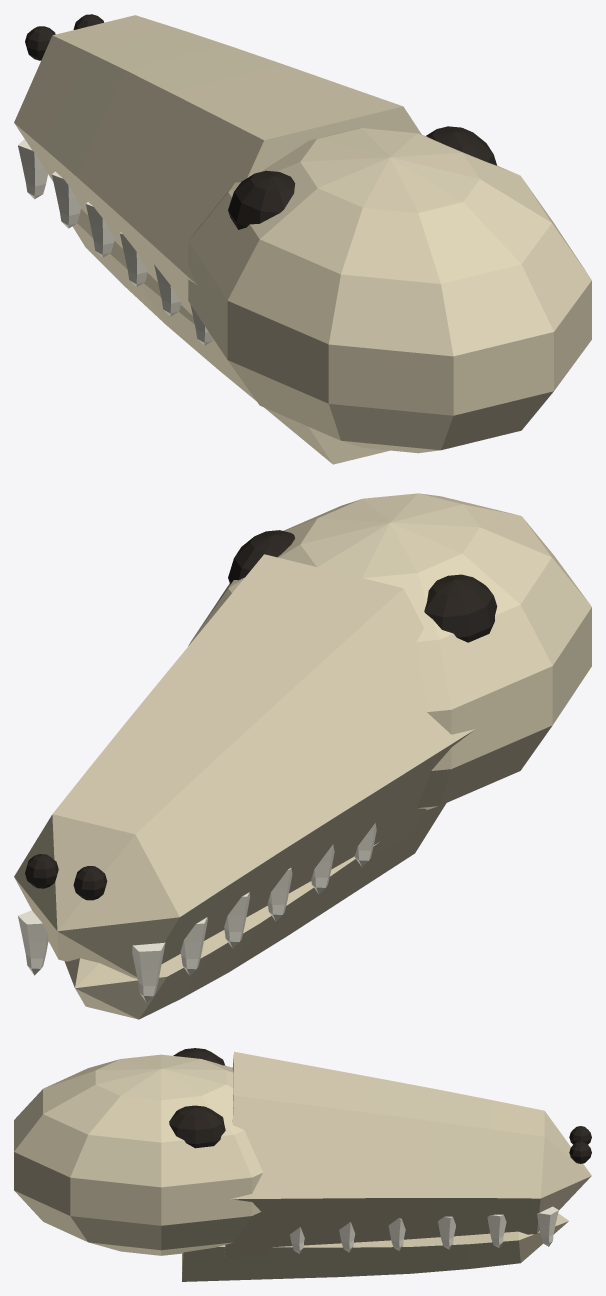
The model's file is GatorSkull.glb.
3 renders of one model, top to bottom at view 1: azimuth 30°, elevation 25°; view 2: azimuth 150°, elevation 25°; view 3: azimuth 270°, elevation 25°, orthographic. The views are drawn at different scales.
Visible parts, largest first — view 1: GatorSkull; view 2: GatorSkull; view 3: GatorSkull.
Part boxes in pixels (left/top/right/bottom): GatorSkull: left=14, top=14, right=591, bottom=464; GatorSkull: left=14, top=493, right=591, bottom=1019; GatorSkull: left=14, top=1048, right=591, bottom=1281.
Bounding box in the file's own units: 1.07 × 0.9737 × 2.55.
Materials: 1 (1 with a texture image).
